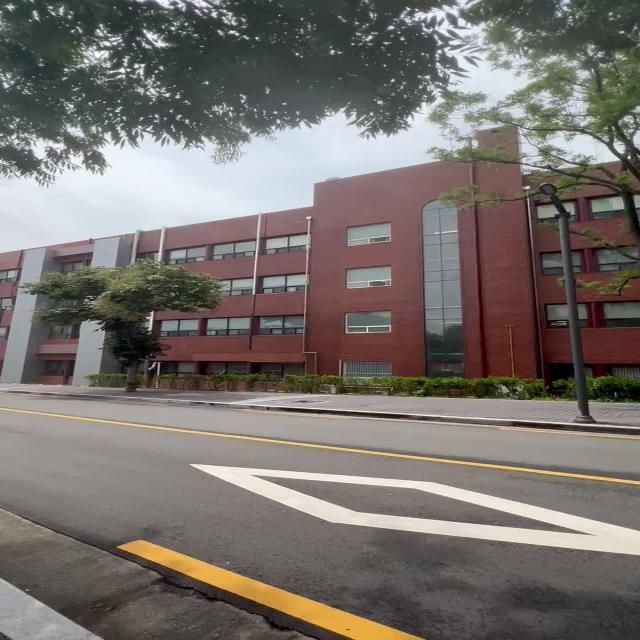building: (233, 172, 526, 383)
